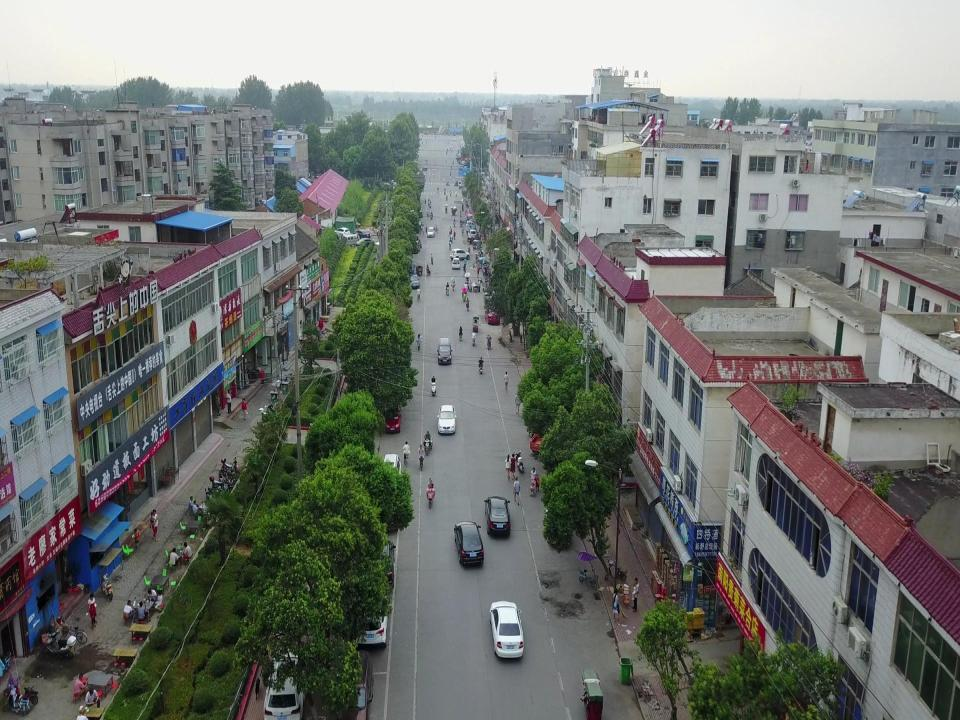car: (328, 648, 374, 720), (261, 652, 305, 720), (348, 586, 388, 646), (488, 600, 524, 659), (363, 538, 397, 586), (453, 520, 484, 567), (483, 494, 511, 536), (382, 452, 402, 490), (437, 406, 457, 436), (385, 406, 401, 433), (485, 308, 500, 325), (355, 237, 375, 248), (451, 248, 469, 260), (334, 226, 350, 239), (409, 274, 420, 289), (354, 231, 370, 238), (410, 241, 420, 252), (452, 257, 460, 270), (466, 220, 475, 229), (468, 229, 476, 238), (416, 265, 422, 275), (428, 227, 434, 237)
van: (437, 338, 453, 365), (344, 234, 356, 246)
